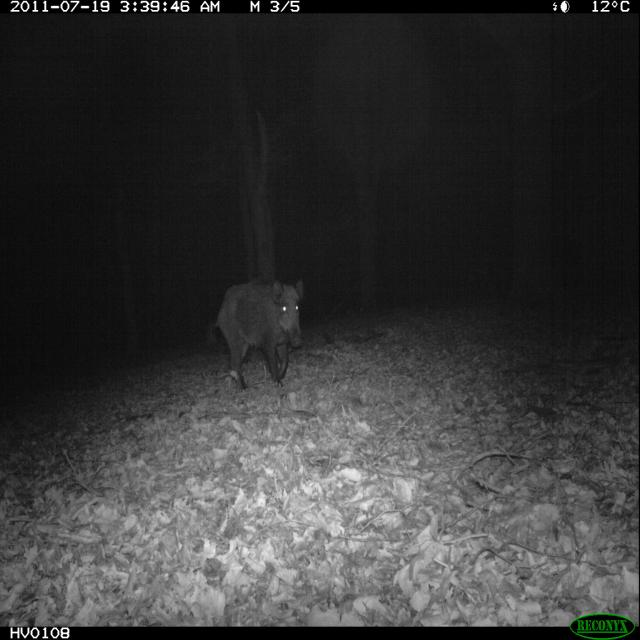boar: (183, 254, 318, 416)
